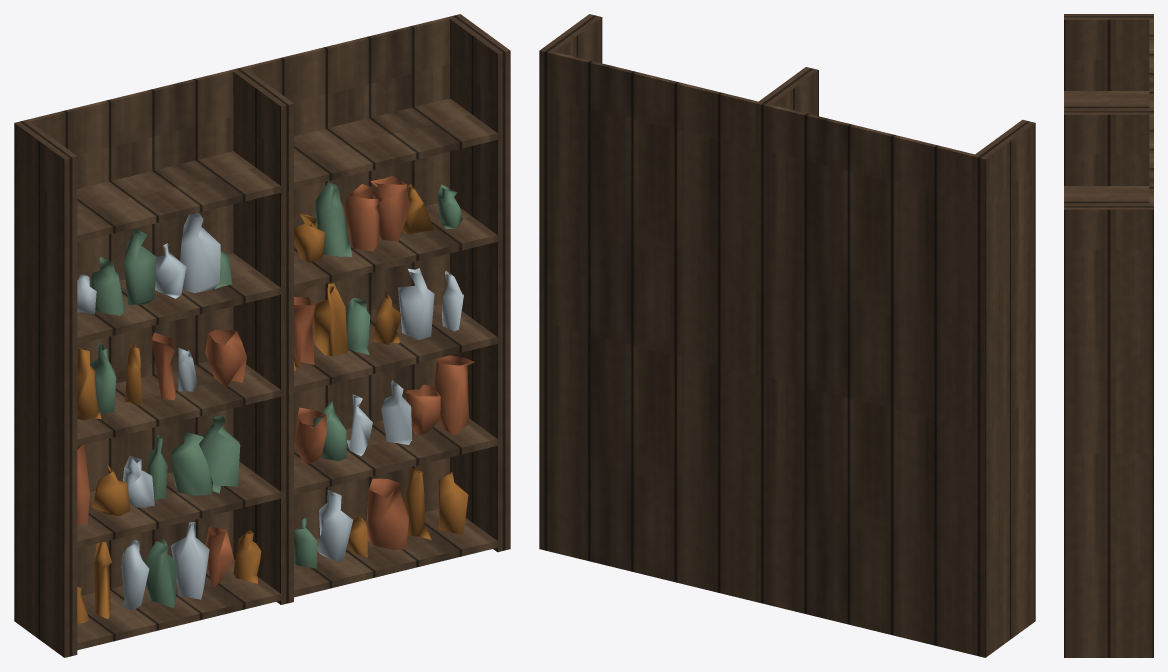
The model's file is Shelf_Apothecary_1.gltf.
3 renders of one model, left to right at view 1: azimuth 30°, elevation 25°; view 2: azimuth 150°, elevation 25°; view 3: azimuth 270°, elevation 25°, orthographic. The views are drawn at different scales.
Parts seen in each view (by area): view 1: Shelf_Apothecary_1; view 2: Shelf_Apothecary_1; view 3: Shelf_Apothecary_1.
Part boxes in pixels (x1,y1,x2,y2): Shelf_Apothecary_1: [14, 14, 510, 657]; Shelf_Apothecary_1: [539, 14, 1035, 657]; Shelf_Apothecary_1: [1064, 14, 1153, 657].
Size of the model in its own units: 2.06 by 2.2 by 0.4.
Materials: 5 (5 with a texture image).
